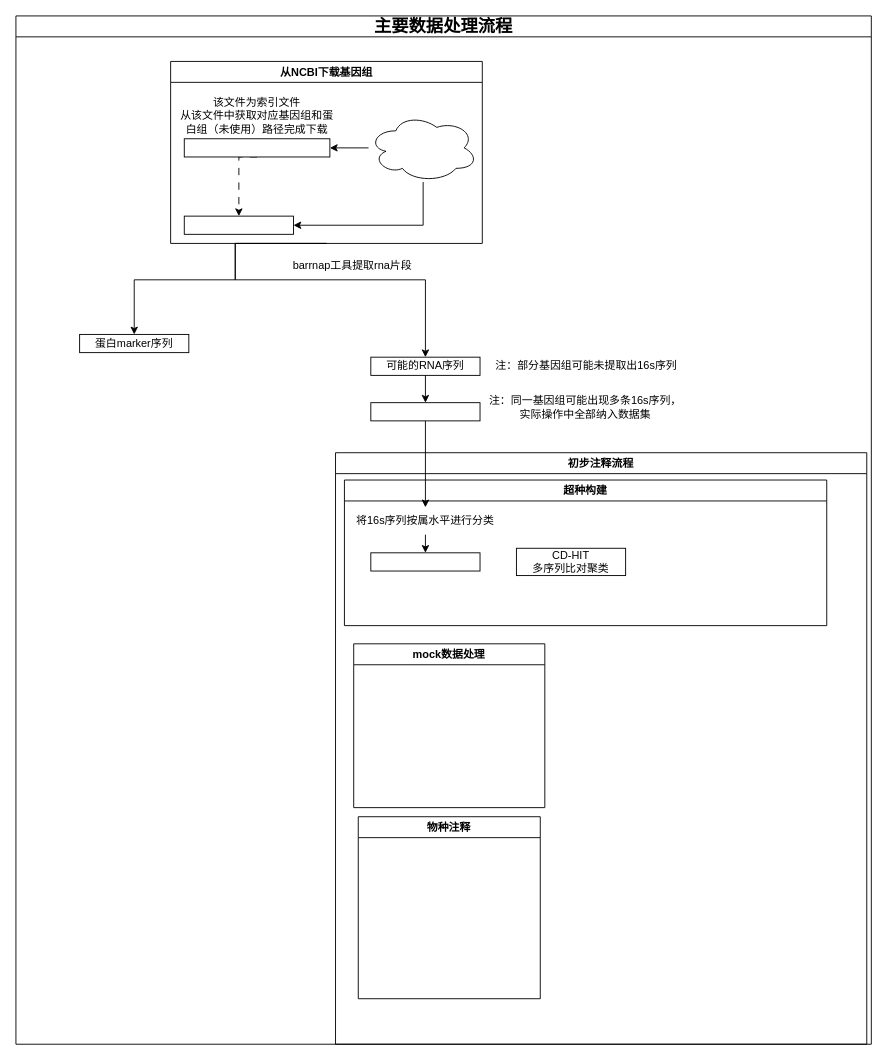
The diagram is 887 pixels wide and 1060 high, and some of its shapes have lost their labels. Here are the shapes that lost their labels. From the top down, the centre of each, then its label:
At (256,147): "assembly_summary_refseq".
At (423,147): "NCBI-Refseq Database".
At (238,224): "基因组序列".
At (425,411): "16sRNA序列".
At (425,561): "属X16S序列".
